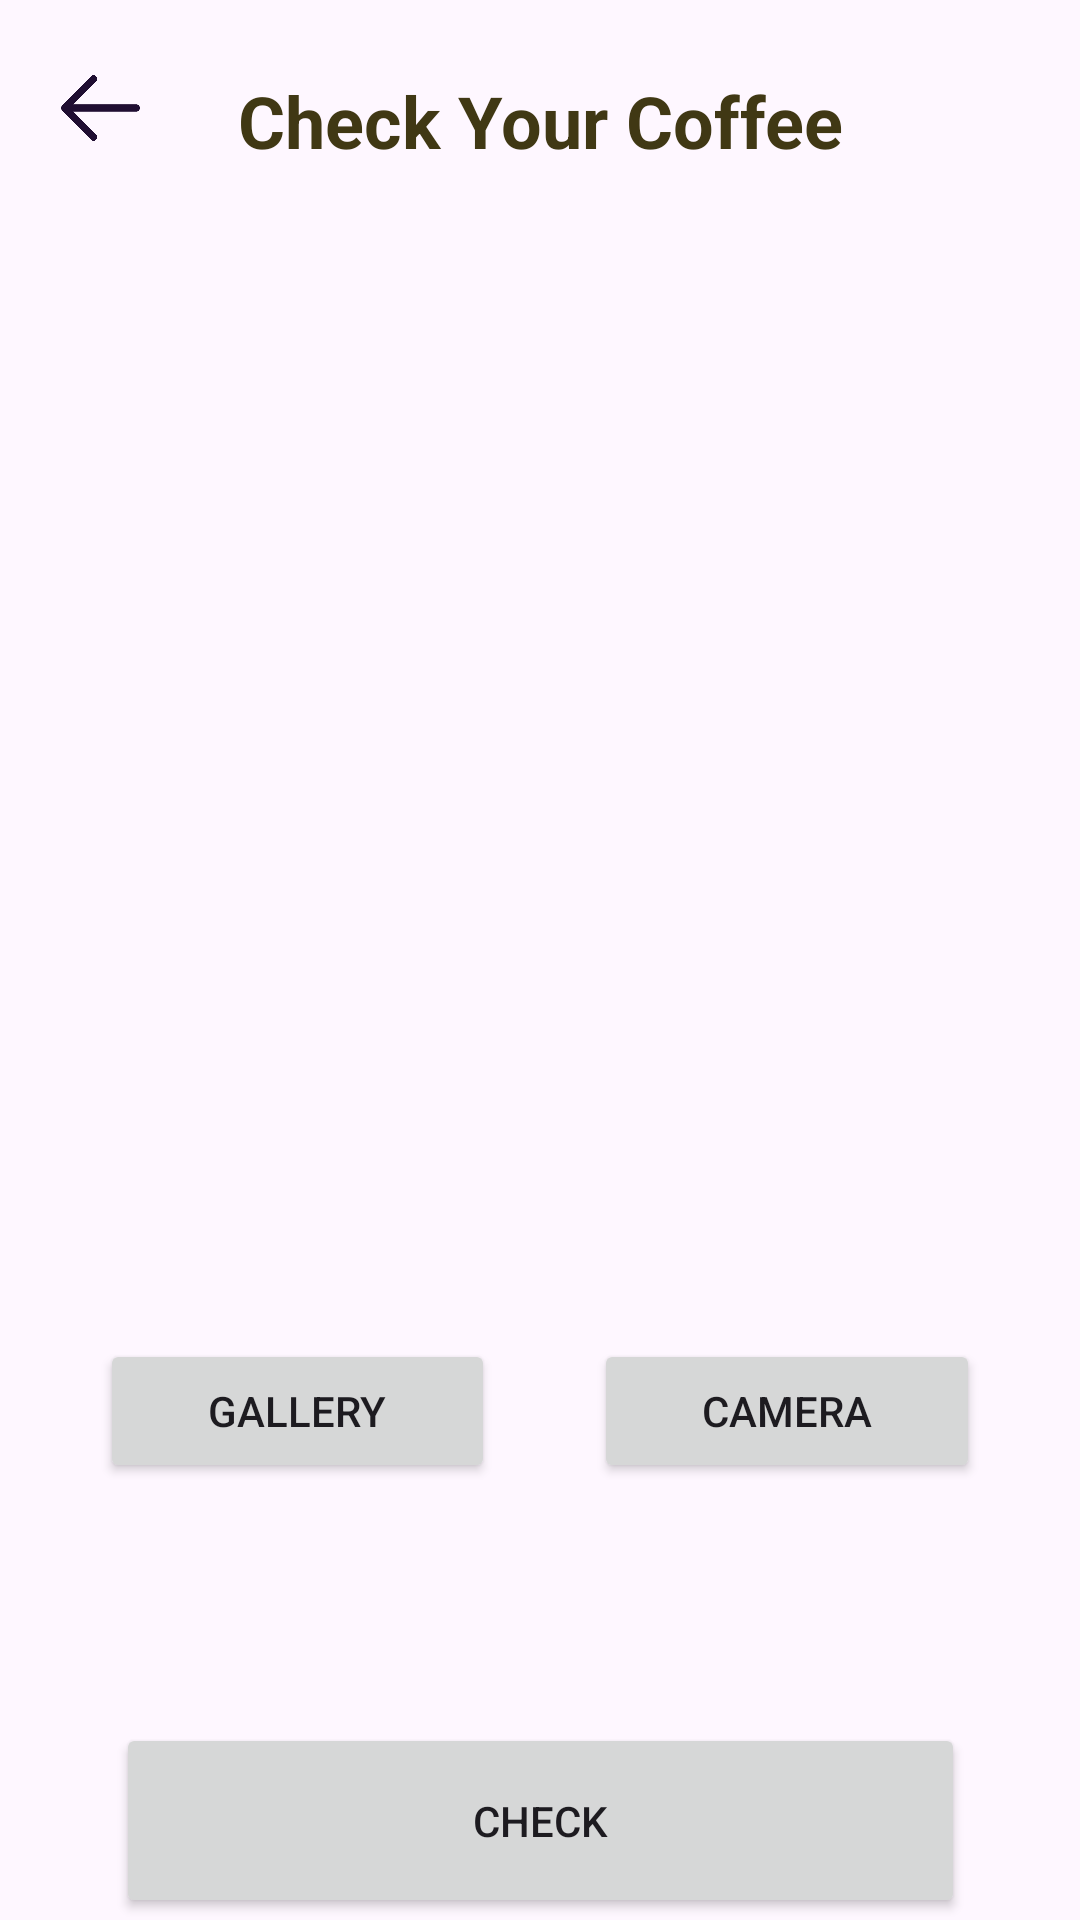

Icon bounding boxes for this 1080x1920 phone screenshot, format (x1, y1, x2, y2):
arrow left: (61, 75, 140, 141)
